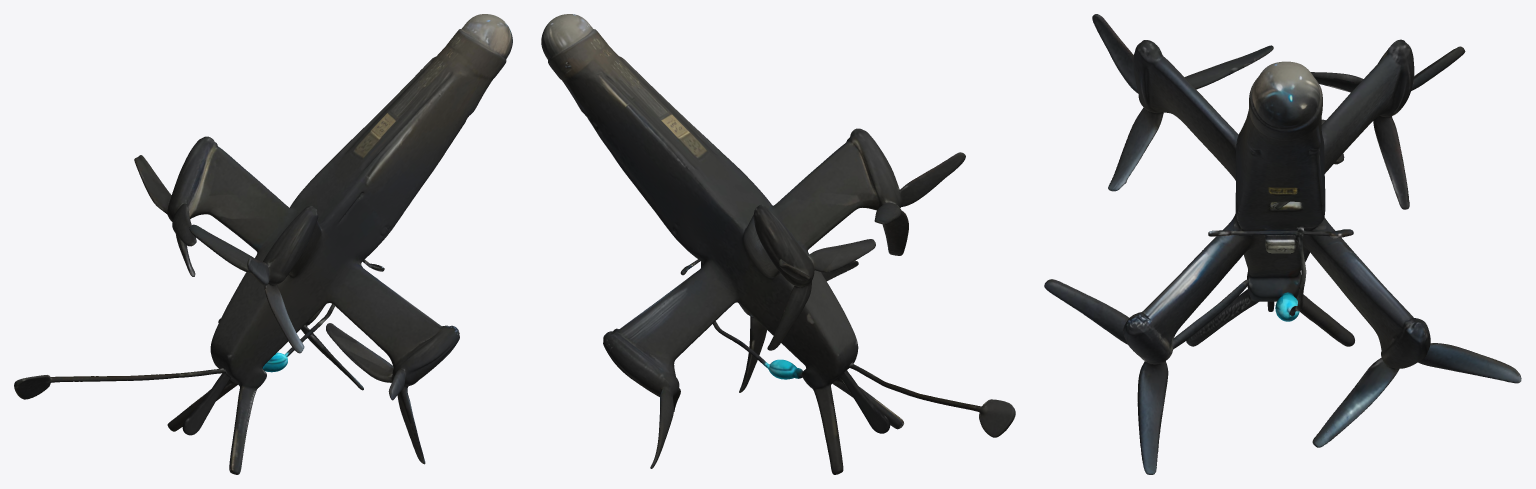
Rendered from drone.glb.
3 renders of one model, left to right at view 1: azimuth 30°, elevation 25°; view 2: azimuth 150°, elevation 25°; view 3: azimuth 270°, elevation 25°, orthographic. The views are drawn at different scales.
Visible parts, largest first — view 1: tripo_node_67654174; view 2: tripo_node_67654174; view 3: tripo_node_67654174.
Boxes of the visible parts, x1,y1,x2,y2 form: tripo_node_67654174: [14, 14, 512, 474]; tripo_node_67654174: [541, 14, 1015, 474]; tripo_node_67654174: [1044, 14, 1521, 474].
Bounding box in the file's own units: 1 × 0.7602 × 0.6814.
1 material, 1 textured.
